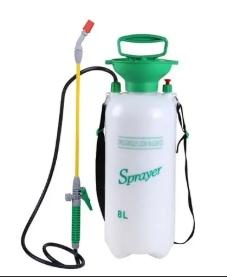PULVERISATEUR: (22, 0, 227, 277)
